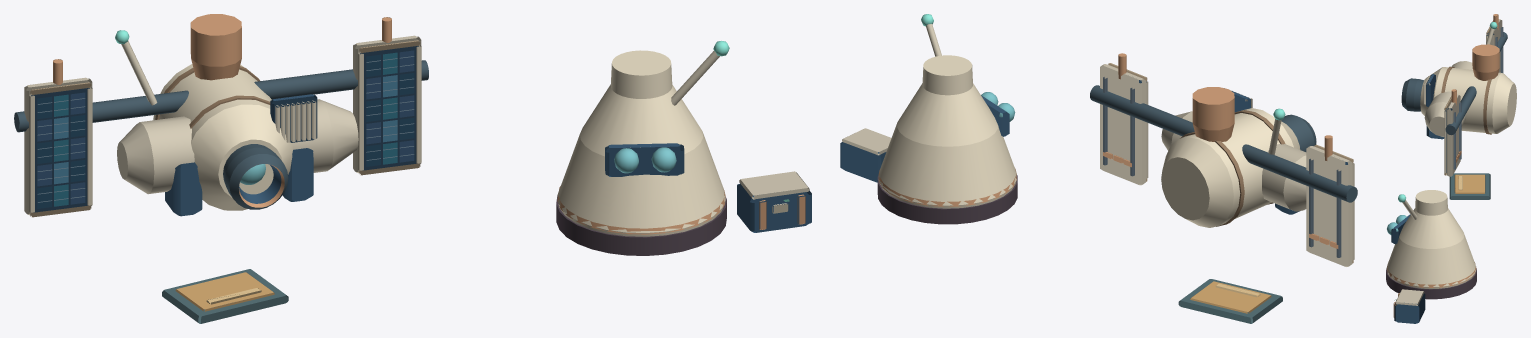
Rendered from orbita-atraque.obj.
3 renders of one model, left to right at view 1: azimuth 30°, elevation 25°; view 2: azimuth 150°, elevation 25°; view 3: azimuth 270°, elevation 25°, orthographic. The views are drawn at different scales.
Parts seen in each view (by area): view 1: orbita-atraque; view 2: orbita-atraque; view 3: orbita-atraque.
Part boxes in pixels (left/top/right/bottom): orbita-atraque: left=14, top=14, right=811, bottom=323; orbita-atraque: left=840, top=14, right=1357, bottom=323; orbita-atraque: left=1386, top=14, right=1516, bottom=323.
Size of the model in its own units: 1.75 by 0.6513 by 0.5301.
